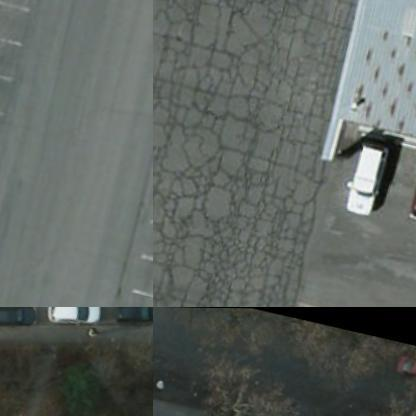car: (344, 137, 392, 216), (44, 307, 104, 333), (0, 307, 41, 335), (389, 344, 415, 386), (110, 307, 152, 332), (403, 142, 415, 221)
